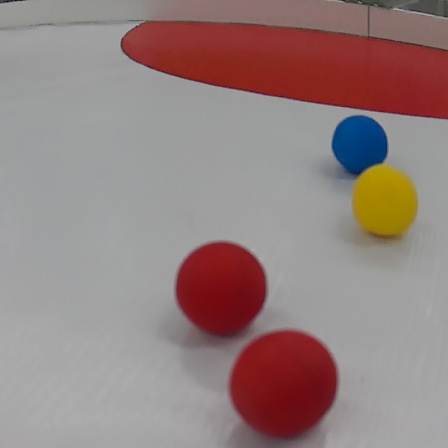blue: (329, 111, 389, 170)
red: (226, 328, 340, 439), (173, 240, 269, 338)
red_base: (119, 5, 448, 120)
yellow: (351, 166, 417, 239)
